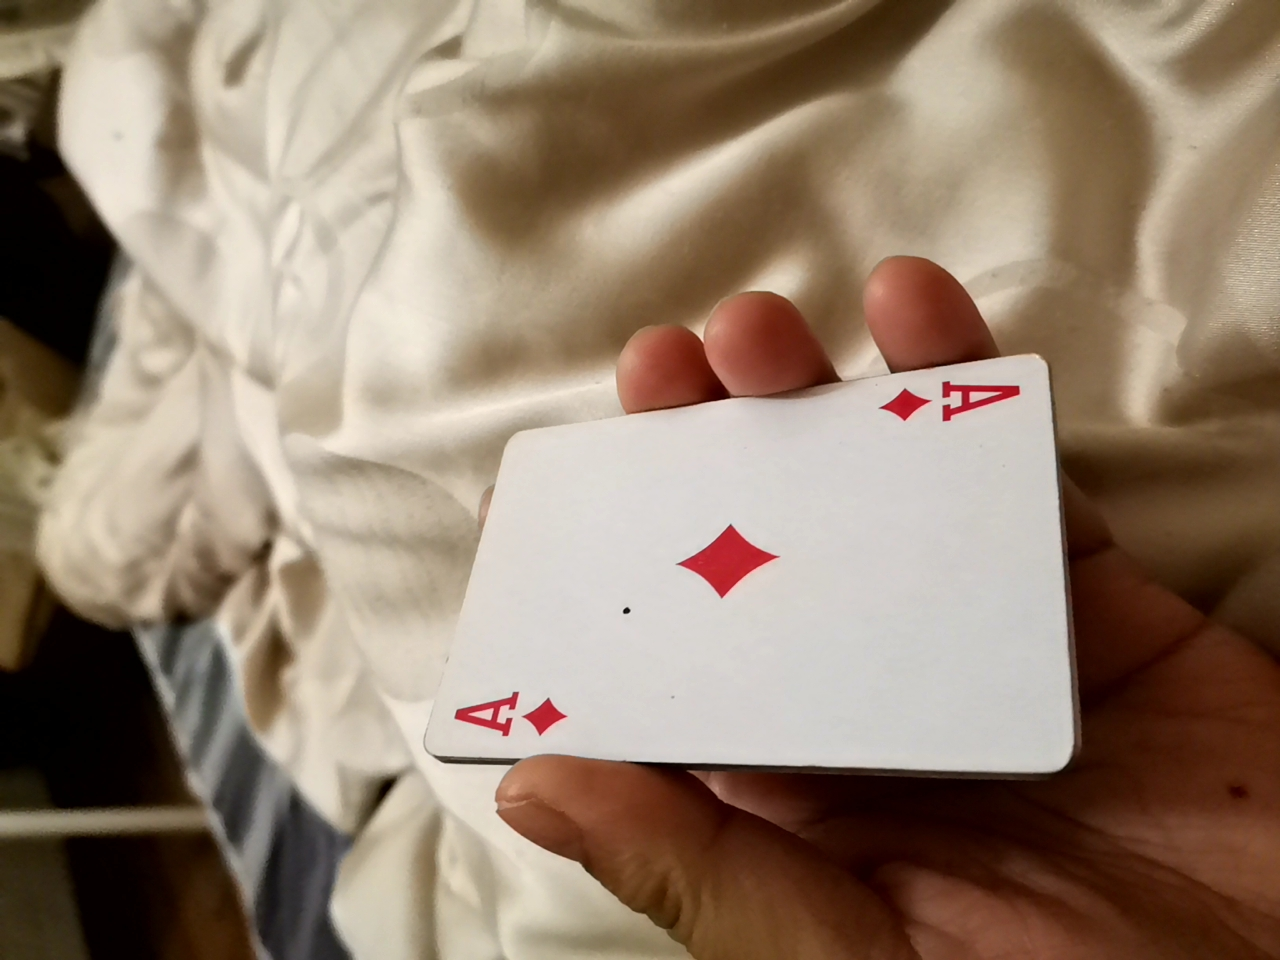fk a: (383, 364, 1096, 762)
